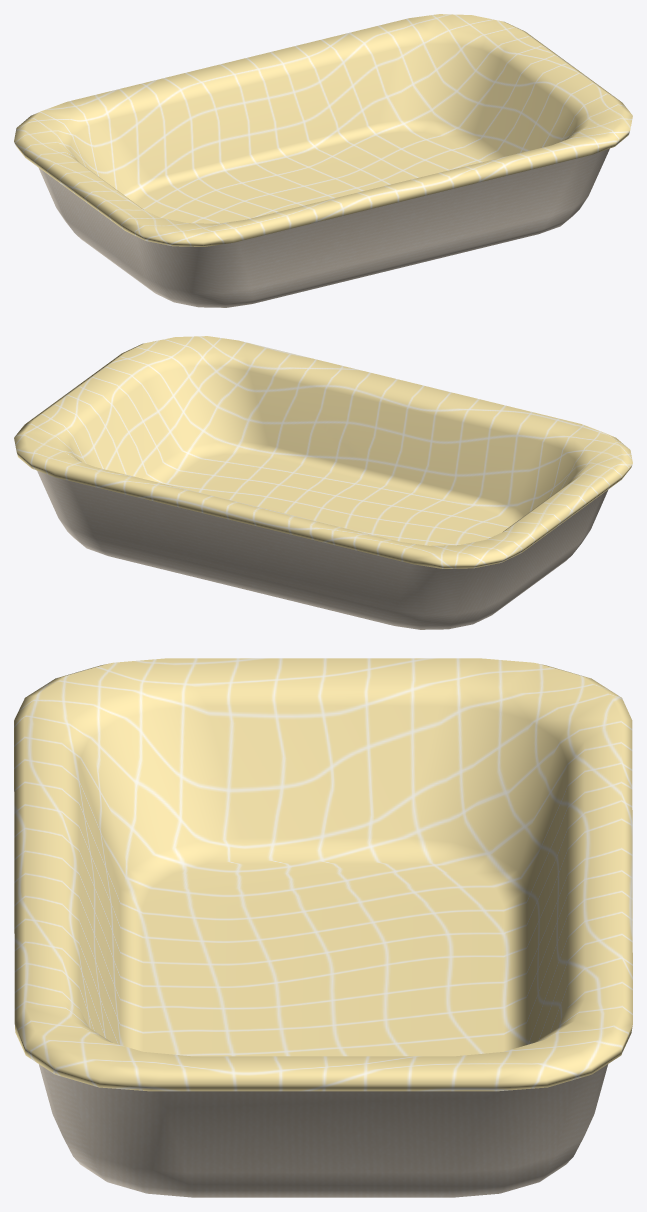
The model's file is Taiyaki_PaperBowl_Yellow.obj.
The picture shows the model from 3 angles, top to bottom: view 1: azimuth 30°, elevation 25°; view 2: azimuth 150°, elevation 25°; view 3: azimuth 270°, elevation 25°; orthographic projection. The views are drawn at different scales.
Parts seen in each view (by area): view 1: Taiyaki_PaperBowl_Taiyaki_PaperBowlSG; view 2: Taiyaki_PaperBowl_Taiyaki_PaperBowlSG; view 3: Taiyaki_PaperBowl_Taiyaki_PaperBowlSG.
Boxes of the visible parts, x1,y1,x2,y2 form: Taiyaki_PaperBowl_Taiyaki_PaperBowlSG: [14, 14, 632, 307]; Taiyaki_PaperBowl_Taiyaki_PaperBowlSG: [14, 336, 632, 629]; Taiyaki_PaperBowl_Taiyaki_PaperBowlSG: [14, 658, 632, 1197].
Size of the model in its own units: 1.68 by 0.3095 by 1.04.
1 material, 1 textured.
